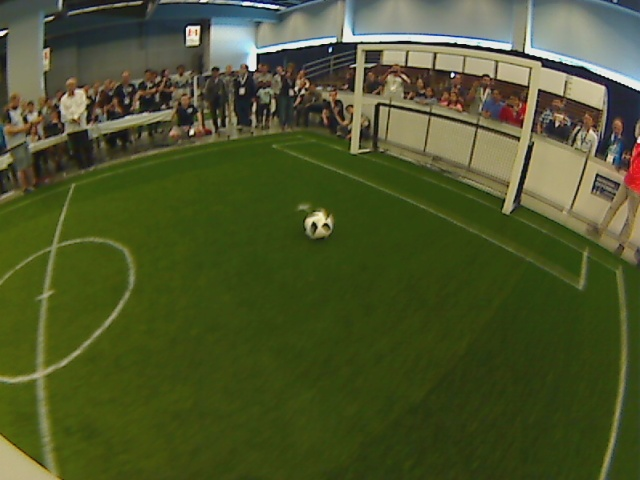ball: (301, 208, 335, 240)
